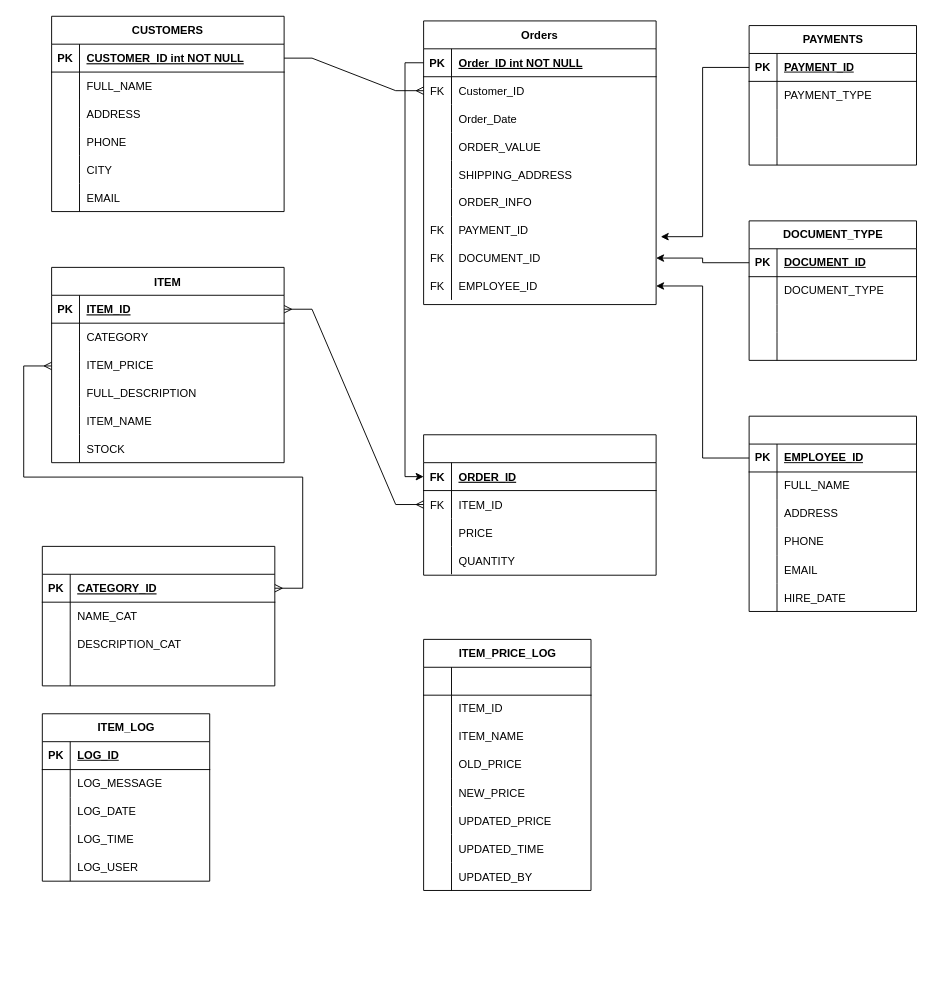
Image size: 933x1000. Some labels were removed from this diagram. Here are the shapes that lost their labels. From the top down, the box of each, then its label:
(423, 434, 656, 575): ORDER_DETAIL
(748, 415, 917, 611): EMPLOYEES
(41, 545, 275, 686): ITEM_CATEGORY
